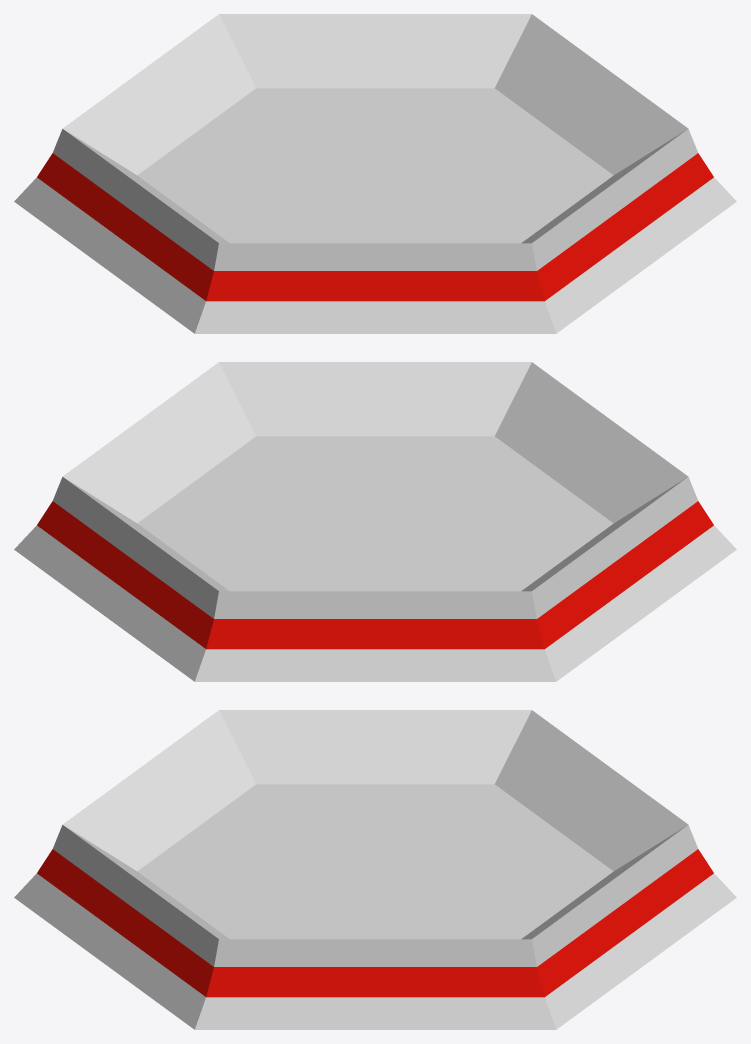
Rendered from BaseWalled.fbx.
3 renders of one model, top to bottom at view 1: azimuth 30°, elevation 25°; view 2: azimuth 150°, elevation 25°; view 3: azimuth 270°, elevation 25°, orthographic.
Visible parts, largest first — view 1: BaseWalled; view 2: BaseWalled; view 3: BaseWalled.
Part boxes in pixels (x1,y1,x2,y2): BaseWalled: (14,14,736,333); BaseWalled: (14,362,736,681); BaseWalled: (14,710,736,1029).
Bounding box in the file's own units: 83.62 × 10.76 × 96.56.
